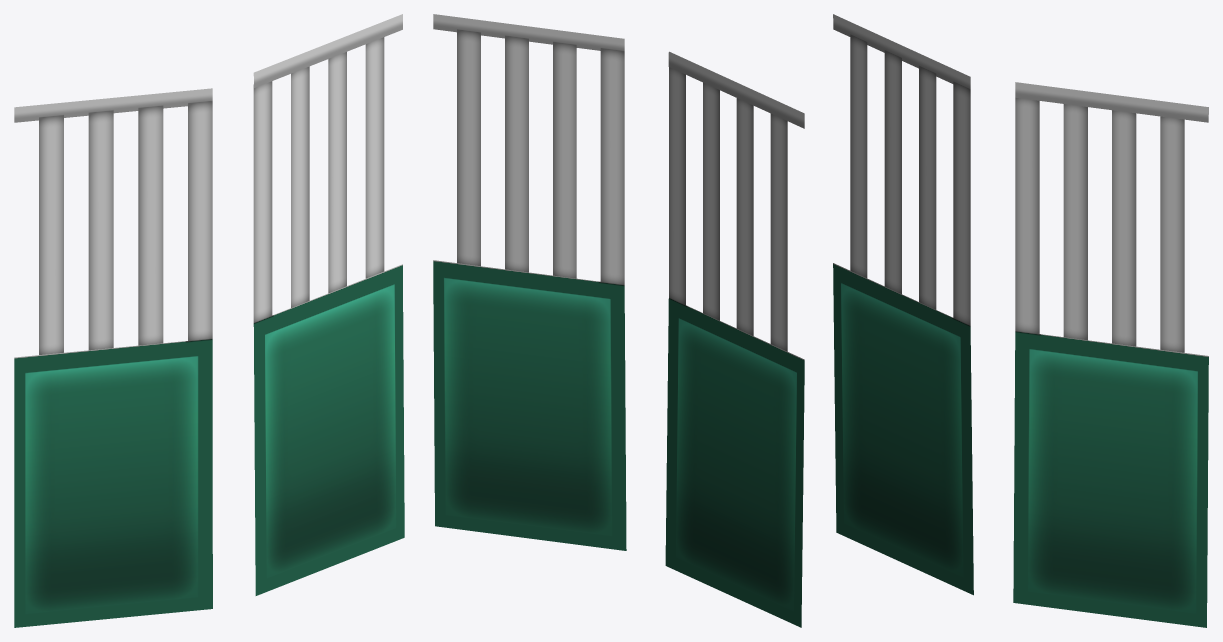
File: startingGATE.fbx
3 views of the same model, side by side, from view 1: azimuth 30°, elevation 25°; view 2: azimuth 150°, elevation 25°; view 3: azimuth 330°, elevation 25° (orthographic).
Visible parts, largest first — view 1: StartBlock1.004, StartBlock1.002; view 2: StartBlock1.002, StartBlock1.004; view 3: StartBlock1.002, StartBlock1.004.
Part boxes in pixels (bbox=[...]): StartBlock1.004: bbox=[14, 88, 212, 627]; StartBlock1.002: bbox=[253, 14, 404, 595]; StartBlock1.002: bbox=[433, 14, 626, 550]; StartBlock1.004: bbox=[665, 51, 804, 627]; StartBlock1.002: bbox=[1013, 82, 1208, 627]; StartBlock1.004: bbox=[833, 14, 973, 595].
Bounding box in the file's own units: 94.75 × 124 × 13.63.
